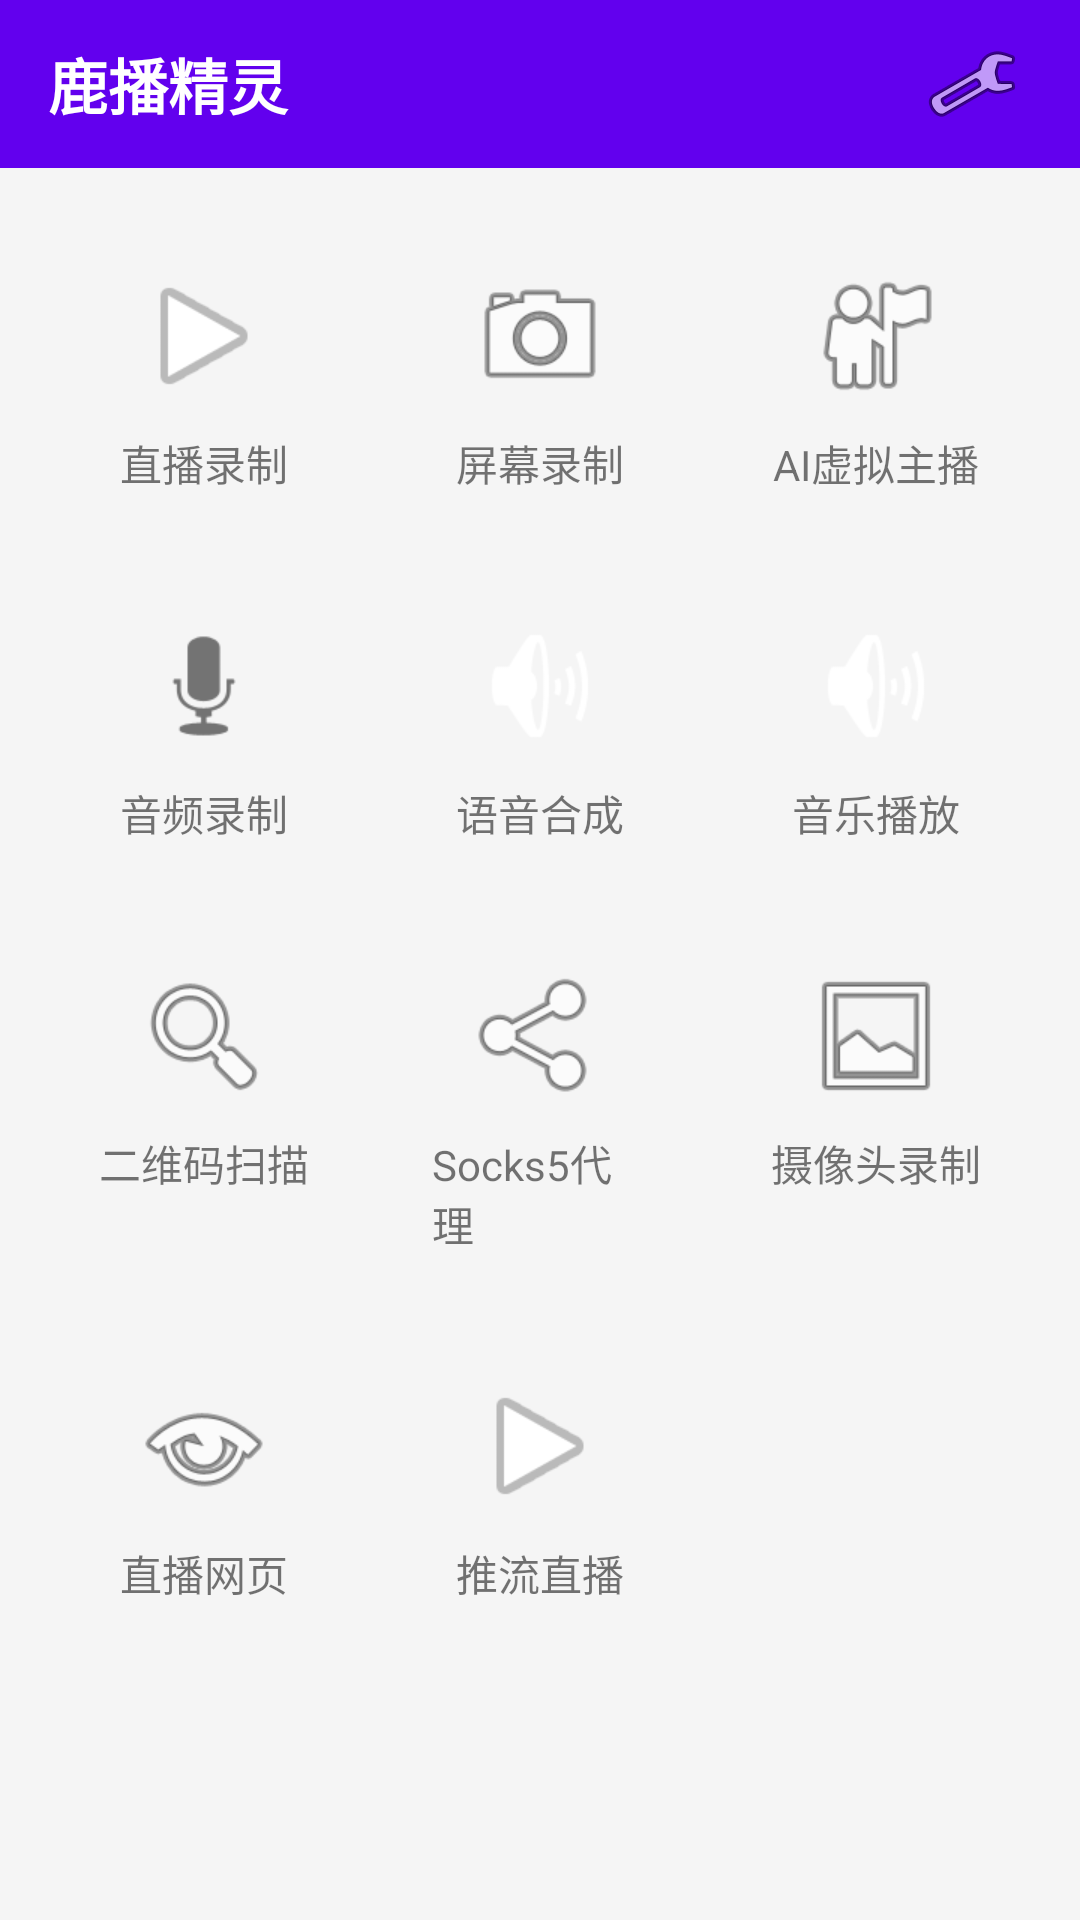

Point at icon controls on the screen. Image size 1080 x 1920, points as [x,y].
camera: [540,333]
gallery: [876,1036]
manage: [972,84]
play: [204,336], [540,1446]
search: [204,1036]
share: [532,1035]
speak now: [204,686]
view: [204,1450]
